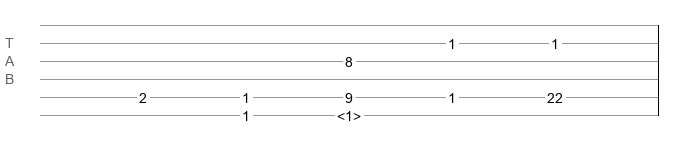1: (242, 90, 250, 100), (242, 108, 250, 118), (448, 90, 456, 100), (448, 36, 456, 46), (551, 36, 559, 46)
2: (139, 90, 147, 100)
22: (547, 90, 563, 100)
8: (345, 54, 353, 64)
9: (345, 90, 353, 100)
harmonic: (337, 108, 361, 118)
